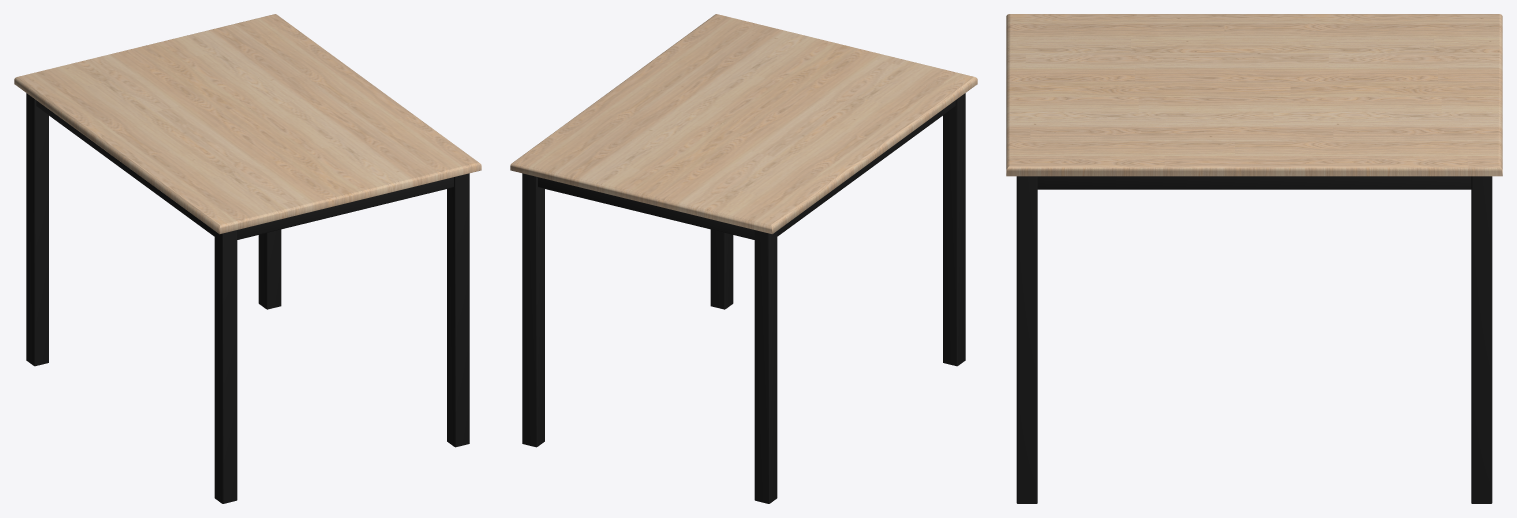
File: Table_IndoorShort.gltf
3 views of the same model, side by side, from view 1: azimuth 30°, elevation 25°; view 2: azimuth 150°, elevation 25°; view 3: azimuth 270°, elevation 25° (orthographic). The views are drawn at different scales.
Visible parts, largest first — view 1: Table.001; view 2: Table.001; view 3: Table.001.
Part boxes in pixels (bbox=[...]): Table.001: bbox=[14, 14, 481, 503]; Table.001: bbox=[510, 14, 977, 503]; Table.001: bbox=[1006, 14, 1502, 503].
Bounding box in the file's own units: 2.81 × 2.89 × 3.82.
2 materials, 1 textured.
